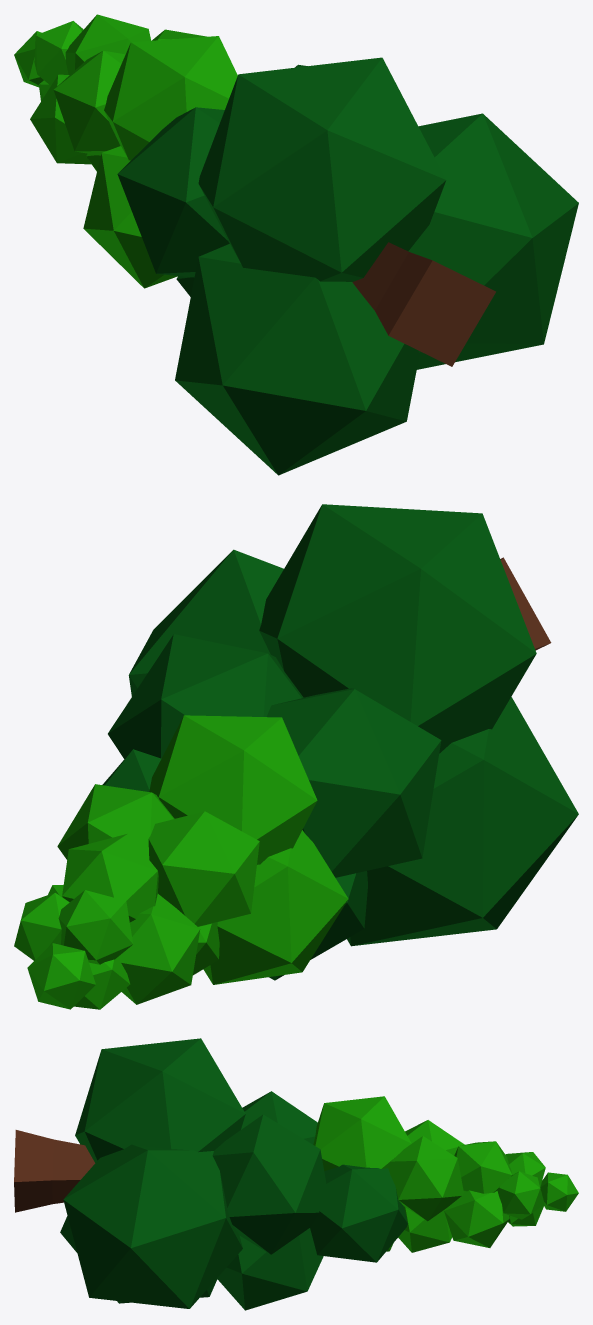
The model's file is Tree4.4.fbx.
The picture shows the model from 3 angles, top to bottom: view 1: azimuth 30°, elevation 25°; view 2: azimuth 150°, elevation 25°; view 3: azimuth 270°, elevation 25°; orthographic projection. The views are drawn at different scales.
Parts seen in each view (by area): view 1: Tree5; view 2: Tree5; view 3: Tree5.
Boxes of the visible parts, x1=… form: Tree5: x1=14, y1=14, x2=578, y2=475; Tree5: x1=14, y1=504, x2=578, y2=1009; Tree5: x1=14, y1=1038, x2=578, y2=1310.
Size of the model in its own units: 3391 by 3233 by 6518.
